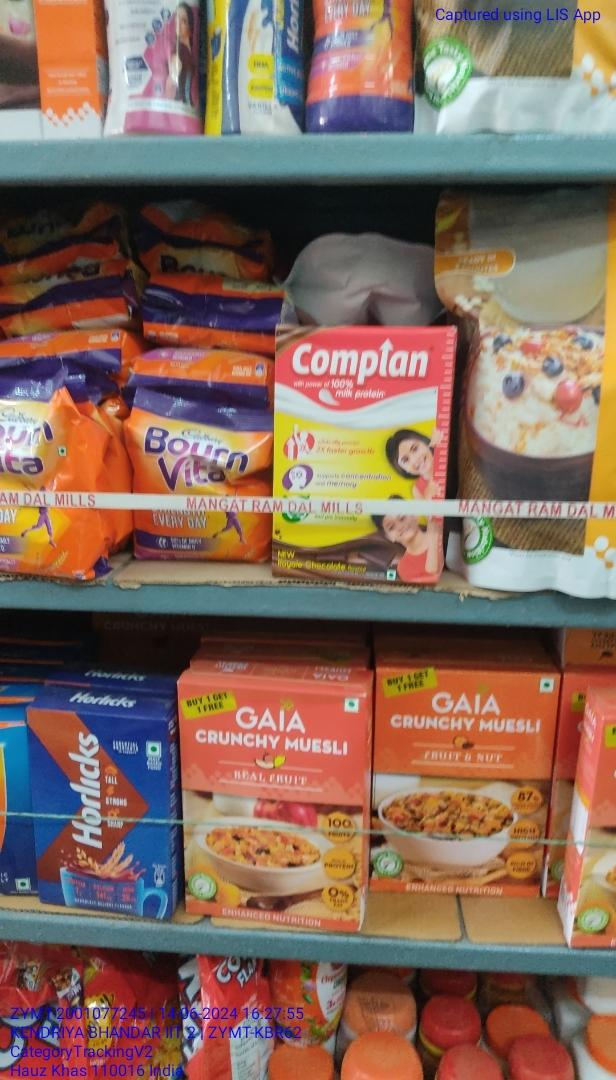BOURN_VITA_500_G_POUCH: (130, 398, 271, 575)
COMPLAN_CHOCOLATE_500_GMS_PACK: (278, 328, 437, 582)
HORLICK_CHOCOLATE_500_G_PACK: (31, 707, 172, 920)
